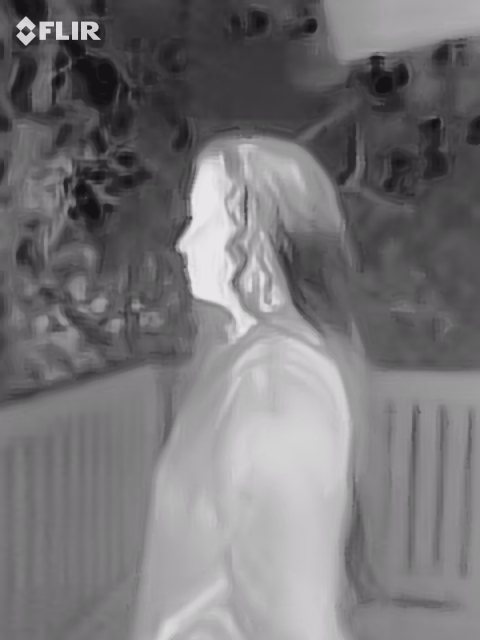head: (173, 135, 300, 302)
